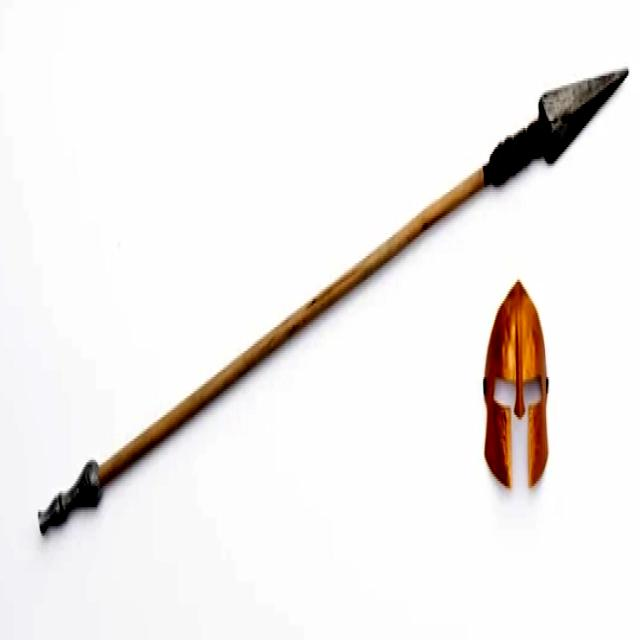spear: (30, 35, 636, 569)
